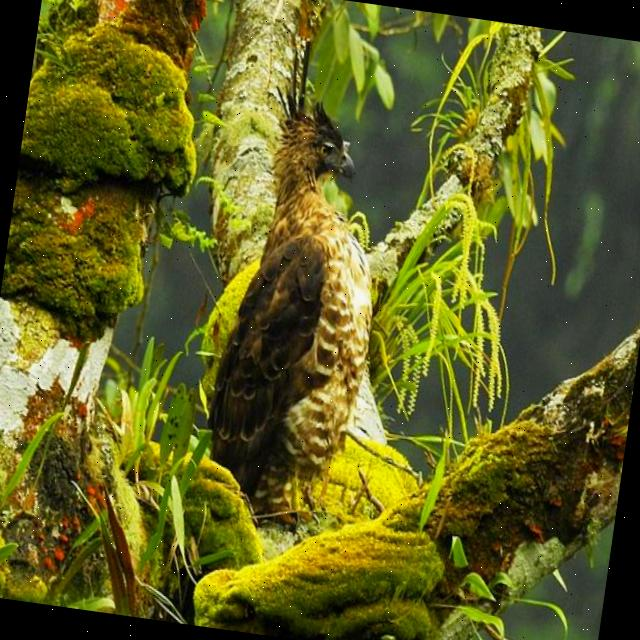Elang Jawa: (177, 16, 425, 585)
